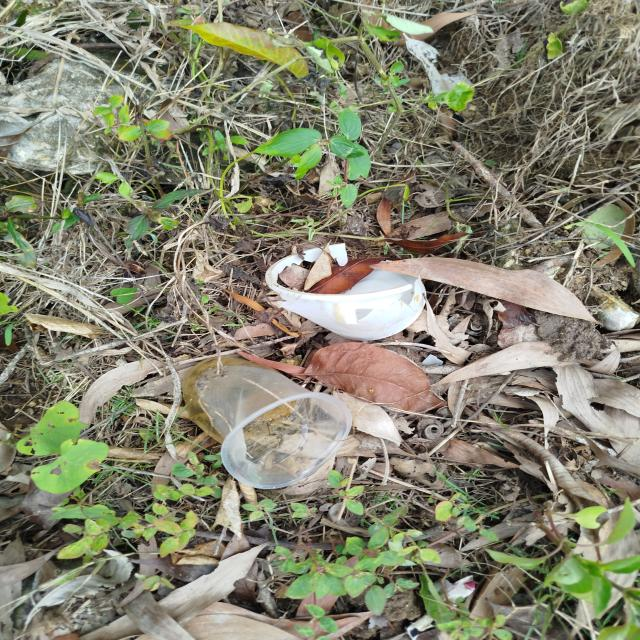plastic: (168, 354, 373, 500)
residual: (256, 238, 441, 359)
